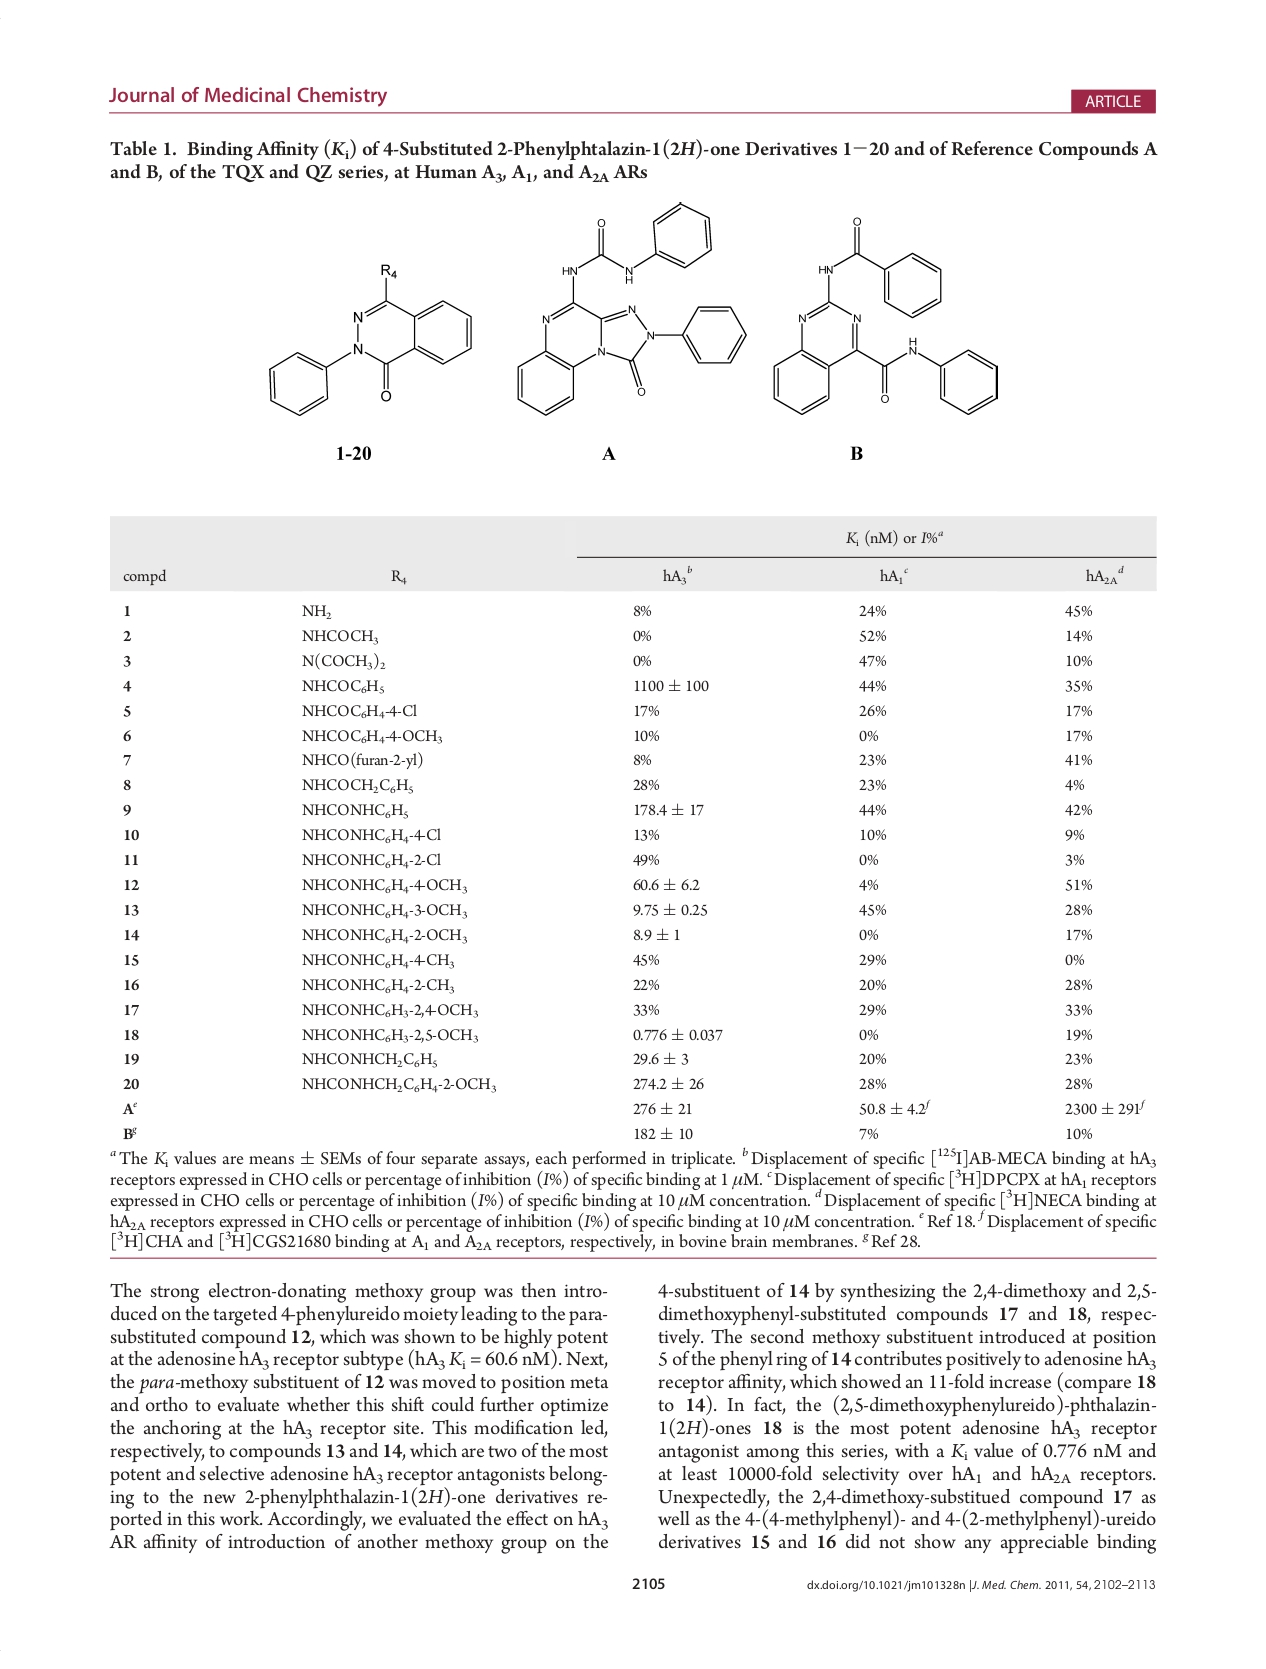exist_molecular: (512, 199, 749, 418), (769, 214, 1001, 420), (265, 261, 477, 419)
